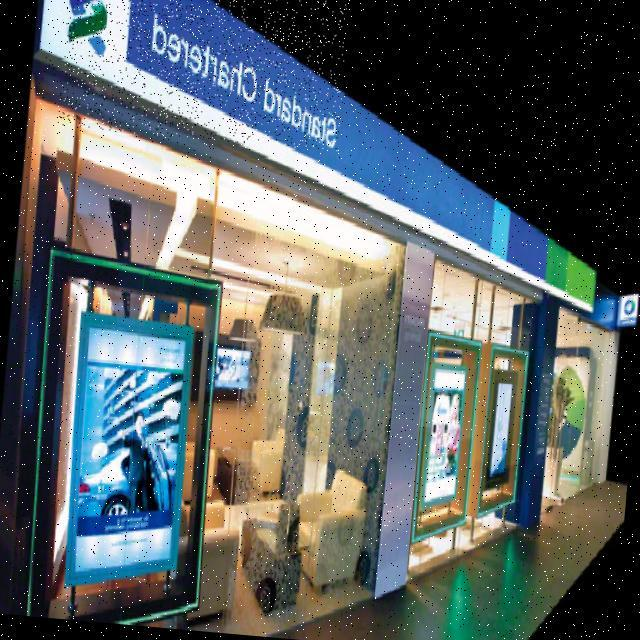Standard Chartered: (57, 0, 350, 151)
